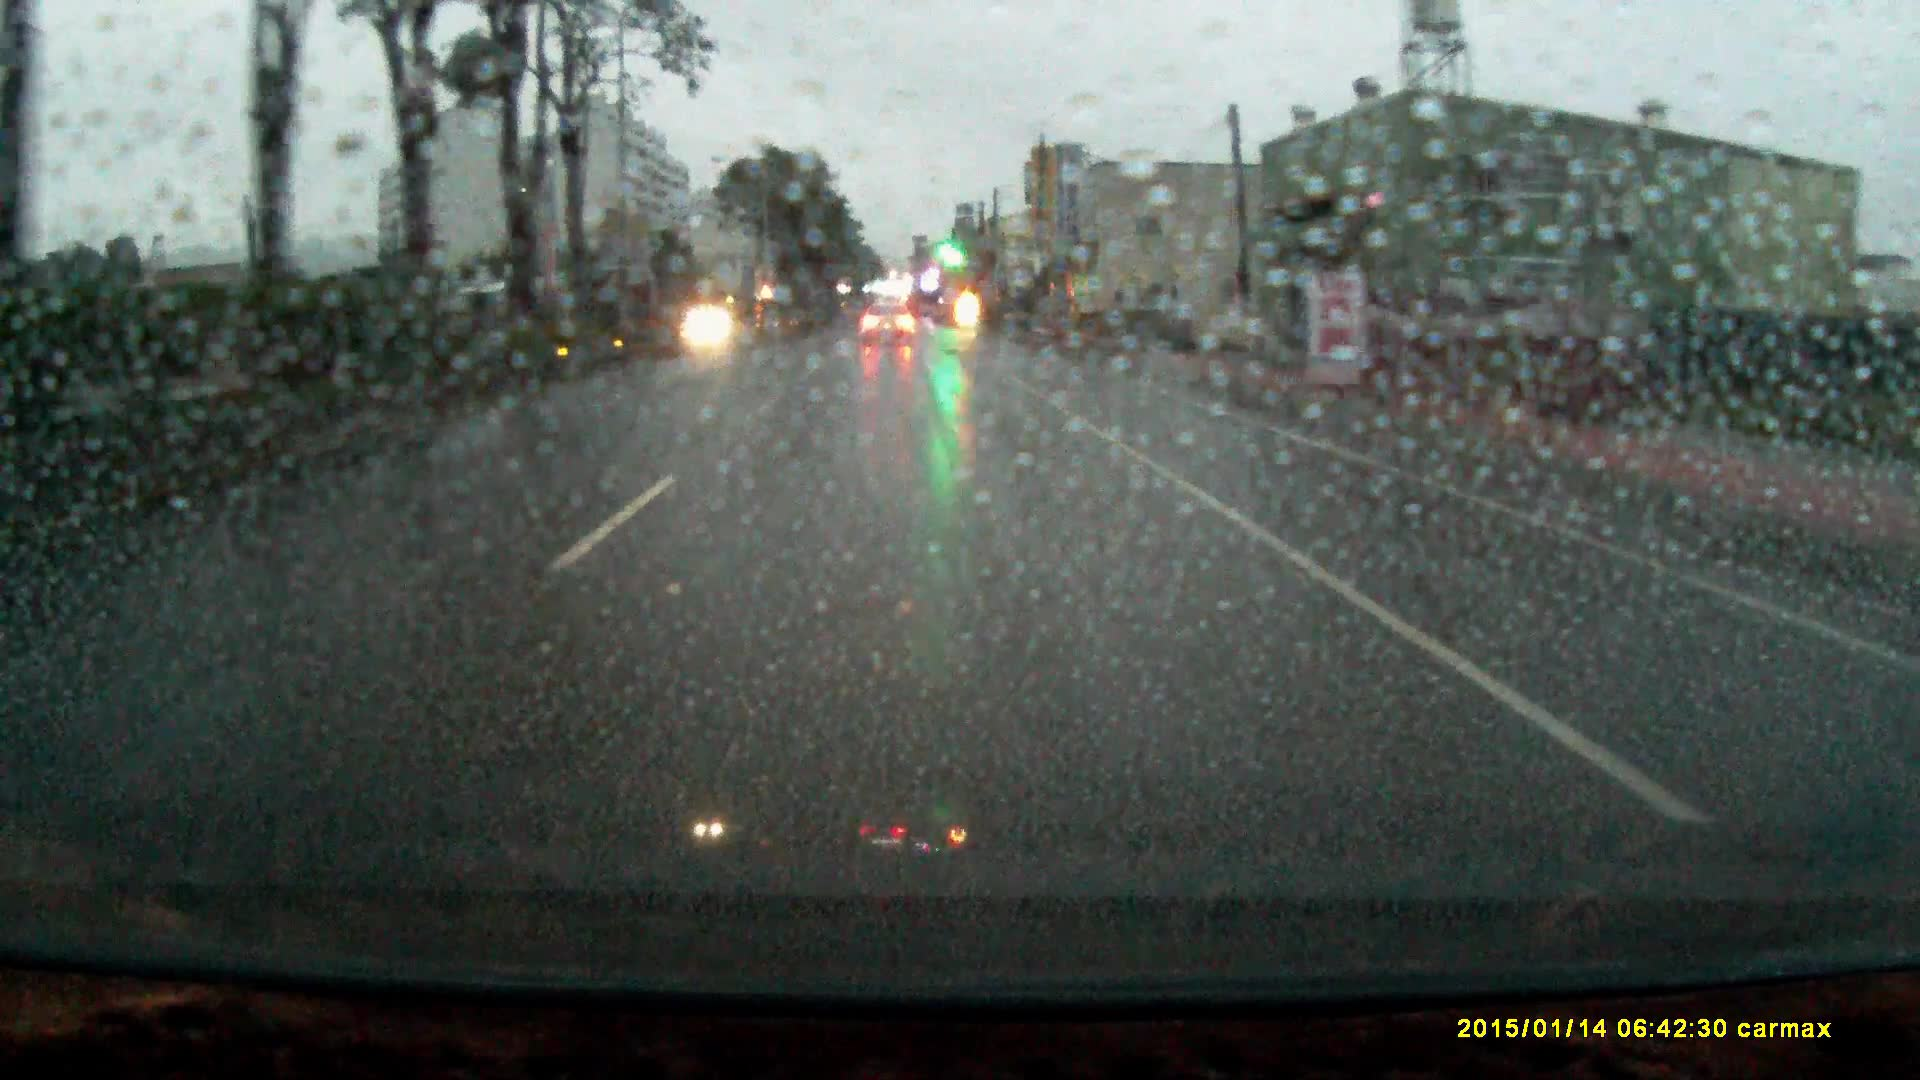vehicle: (862, 301, 915, 345)
